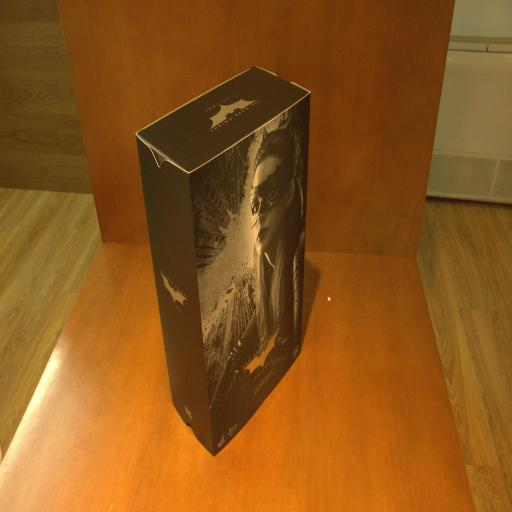catwoman: (136, 66, 310, 454)
